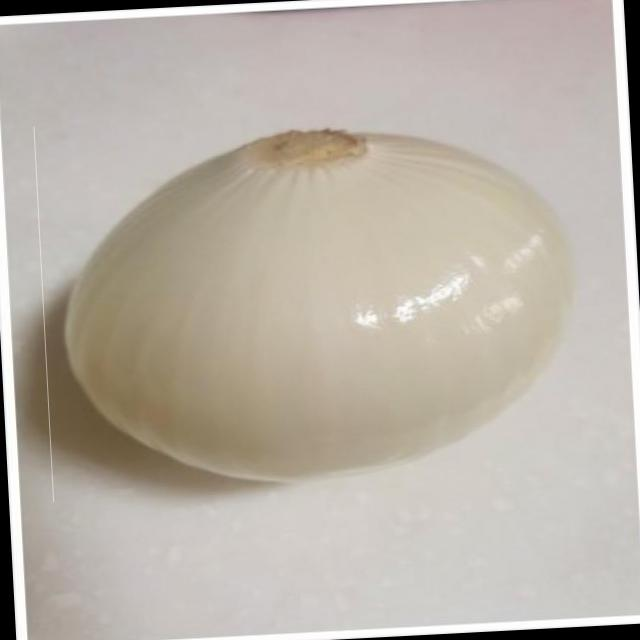Onion: (34, 99, 584, 502)
